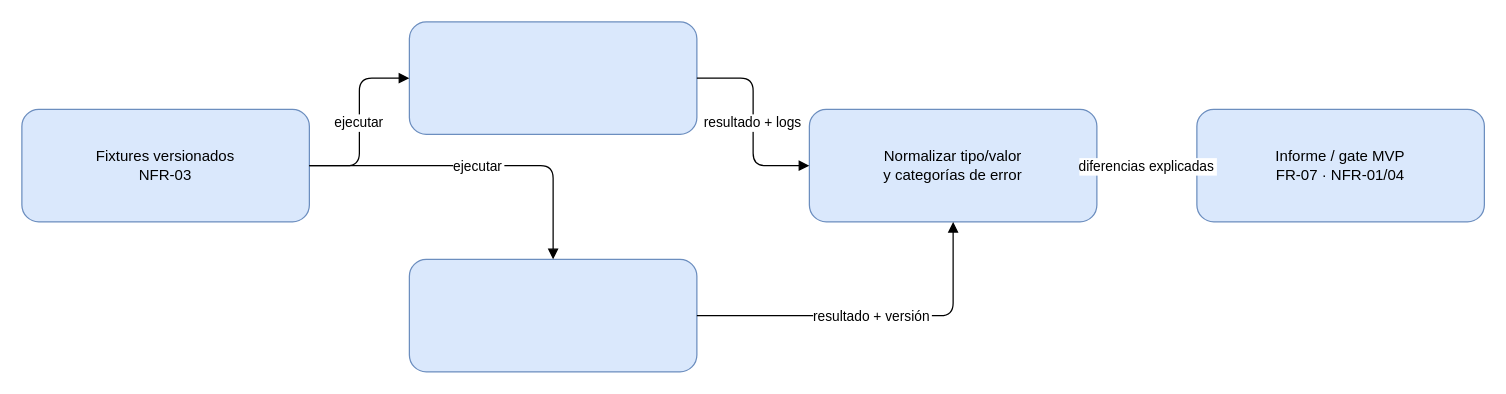
This 1506x394 diagram has some shape labels left out. Each missing label, with the box of its shape:
GraalRascal: (408, 21, 697, 134)
Rascal referencia: (408, 258, 697, 372)
